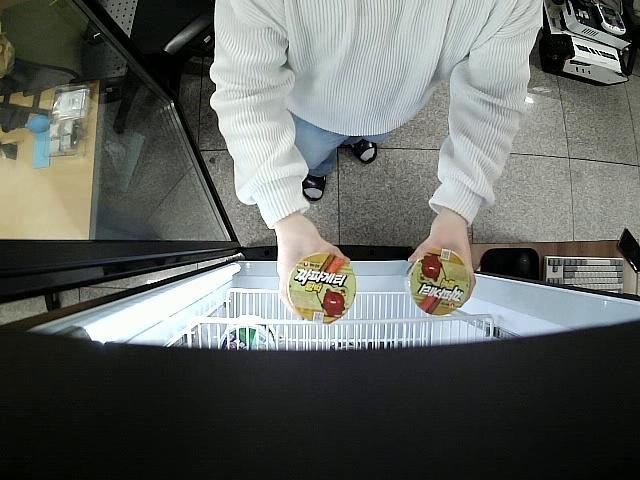04_chapagetti_S: (287, 252, 357, 322), (406, 251, 473, 315)
